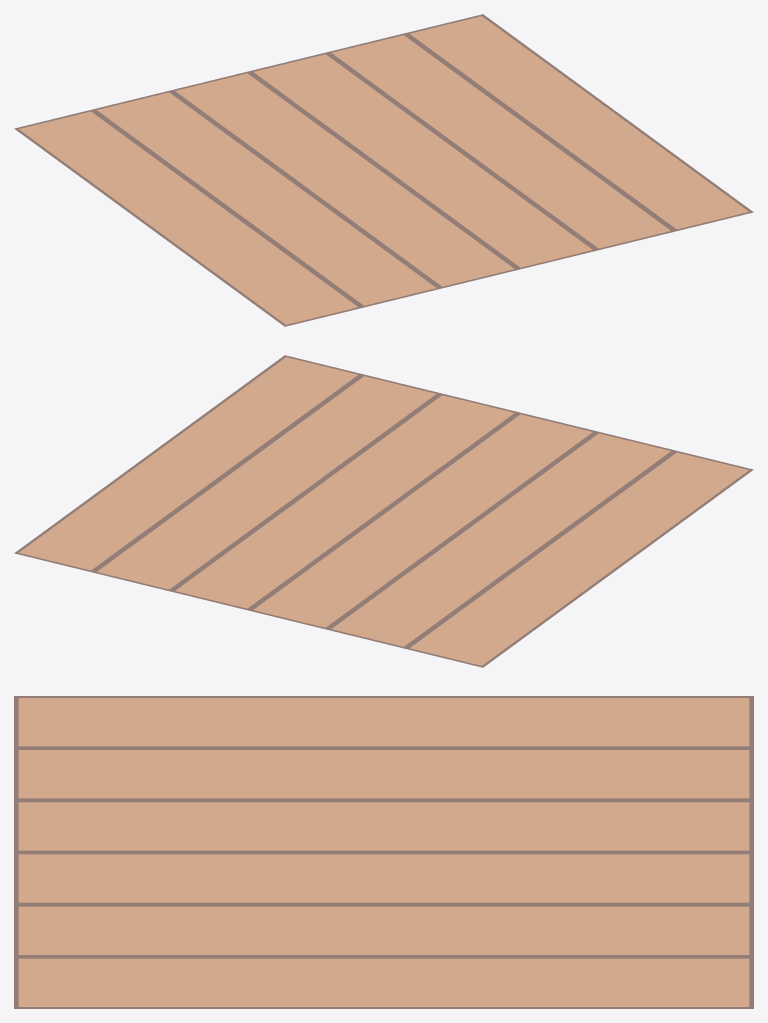
The model's file is C_Floor_04.fbx.
3 renders of one model, top to bottom at view 1: azimuth 30°, elevation 25°; view 2: azimuth 150°, elevation 25°; view 3: azimuth 270°, elevation 25°, orthographic. The views are drawn at different scales.
Parts seen in each view (by area): view 1: C_Floor_04; view 2: C_Floor_04; view 3: C_Floor_04.
Boxes of the visible parts, <box> form: C_Floor_04: <box>14,14,753,326</box>; C_Floor_04: <box>14,355,753,667</box>; C_Floor_04: <box>14,696,753,1008</box>.
Bounding box in the file's own units: 400 × 0 × 400.
